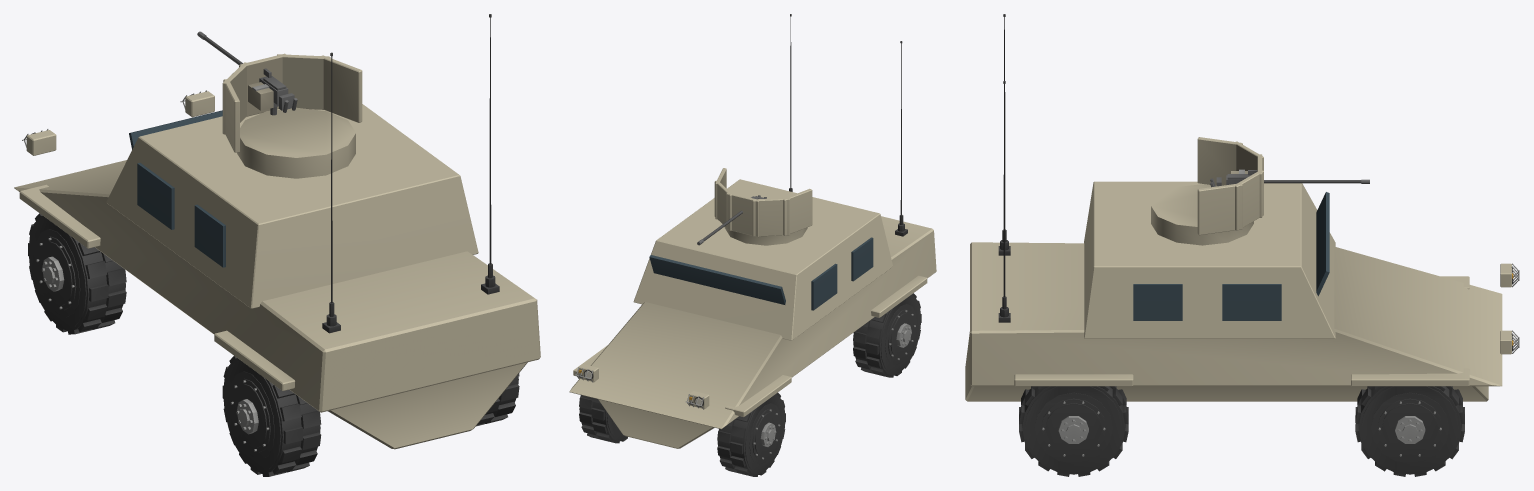
File: usa_lv_jltv_cca.glb
3 views of the same model, side by side, from view 1: azimuth 30°, elevation 25°; view 2: azimuth 150°, elevation 25°; view 3: azimuth 270°, elevation 25° (orthographic). The views are drawn at different scales.
Parts seen in each view (by area): view 1: body, turret, wheel_2, wheel_0, barrel, wheel_3; view 2: body, turret, wheel_2, wheel_0, wheel_1; view 3: body, wheel_3, wheel_1, turret, barrel.
Part boxes in pixels (<box>): body: <box>14,14,540,449</box>; turret: <box>222,53,362,178</box>; wheel_2: <box>222,356,321,476</box>; wheel_0: <box>28,213,126,334</box>; barrel: <box>197,31,297,115</box>; wheel_3: <box>476,373,519,426</box>; body: <box>569,14,936,448</box>; turret: <box>714,168,812,245</box>; wheel_2: <box>853,293,921,377</box>; wheel_0: <box>717,392,785,476</box>; wheel_1: <box>579,395,627,443</box>; body: <box>965,14,1519,401</box>; wheel_3: <box>1019,386,1128,476</box>; wheel_1: <box>1355,386,1464,476</box>; turret: <box>1151,137,1263,245</box>; barrel: <box>1210,169,1369,187</box>.
Bounding box in the file's own units: 2.58 × 4.24 × 5.6.
